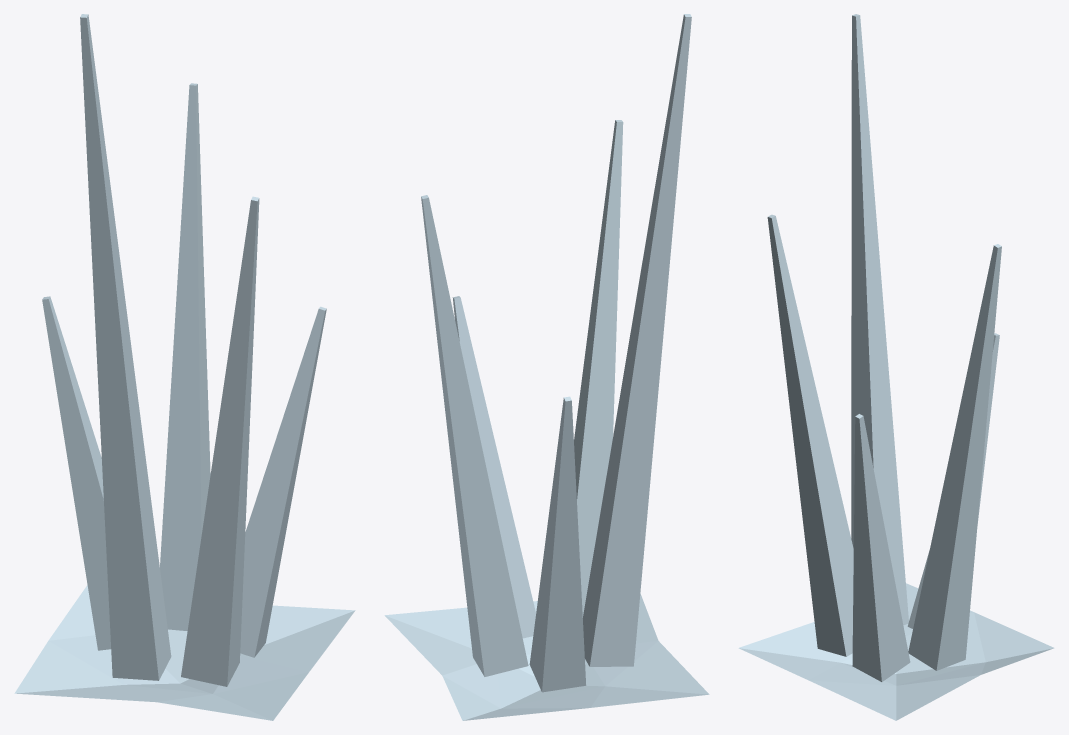
File: ice_shard_v11.glb
The picture shows the model from 3 angles, left to right: view 1: azimuth 30°, elevation 25°; view 2: azimuth 150°, elevation 25°; view 3: azimuth 270°, elevation 25°; orthographic projection. The views are drawn at different scales.
Parts seen in each view (by area): view 1: lod0; view 2: lod0; view 3: lod0.
Part boxes in pixels (x1,y1,x2,y2): lod0: (14, 14, 355, 720); lod0: (384, 14, 709, 720); lod0: (738, 14, 1054, 720).
Size of what is drawn, in the model's own units: 0.8098 by 1.62 by 0.7635.
